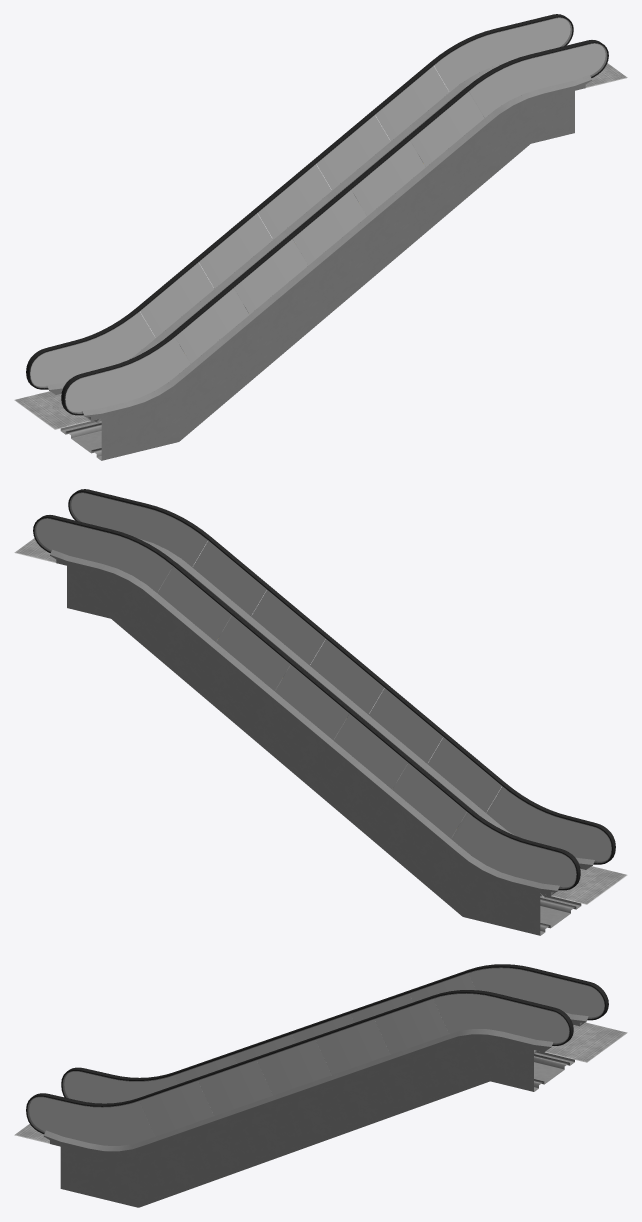
Rendered from SM_Escalator_01.fbx.
The picture shows the model from 3 angles, top to bottom: view 1: azimuth 30°, elevation 25°; view 2: azimuth 150°, elevation 25°; view 3: azimuth 330°, elevation 25°; orthographic projection.
Parts seen in each view (by area): view 1: SM_Escalator_01_LOD0; view 2: SM_Escalator_01_LOD0; view 3: SM_Escalator_01_LOD0.
Part boxes in pixels (<box>): SM_Escalator_01_LOD0: <box>14,14,627,460</box>; SM_Escalator_01_LOD0: <box>14,489,627,935</box>; SM_Escalator_01_LOD0: <box>14,964,627,1207</box>.
Bounding box in the file's own units: 1695 × 210 × 842.
